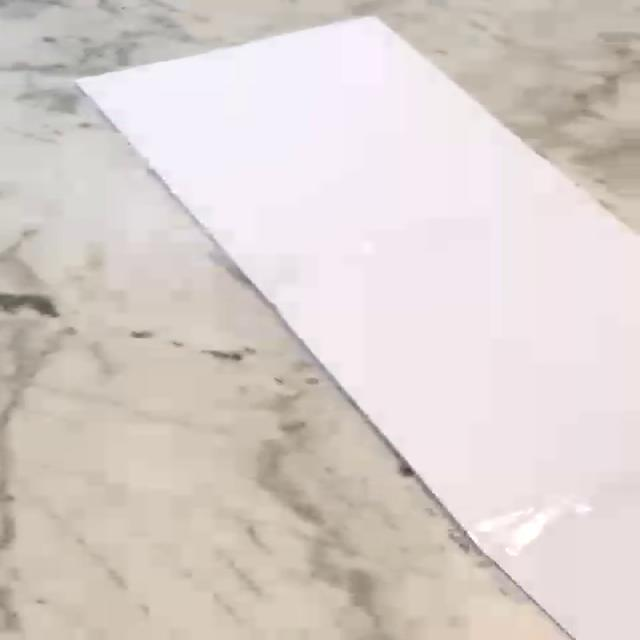road: (77, 17, 639, 640)
